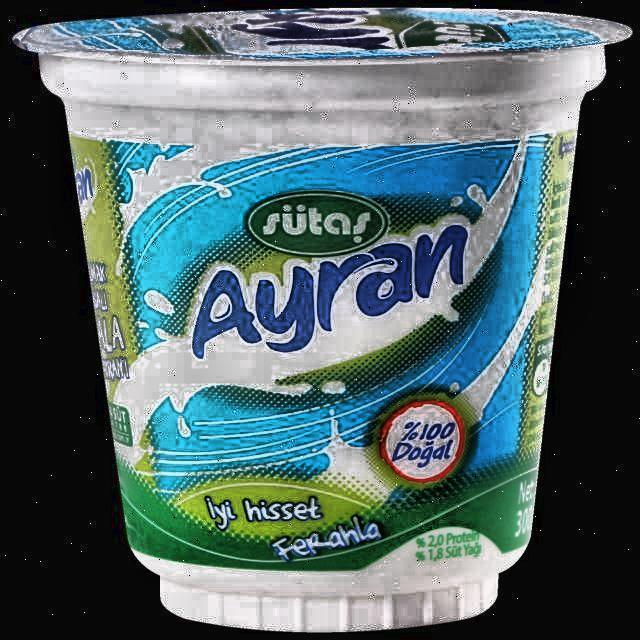plastic: (13, 7, 633, 635)
